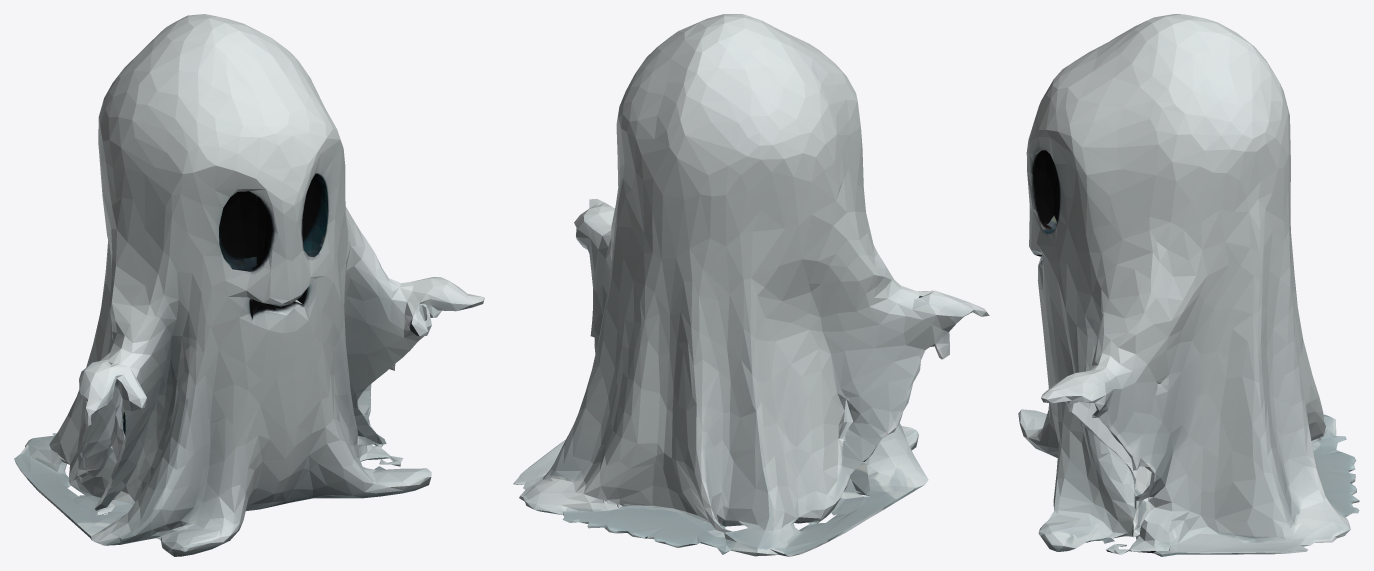
The model's file is ghost_source.glb.
The picture shows the model from 3 angles, left to right: view 1: azimuth 30°, elevation 25°; view 2: azimuth 150°, elevation 25°; view 3: azimuth 270°, elevation 25°; orthographic projection.
Visible parts, largest first — view 1: tmpyhwo2_21.ply; view 2: tmpyhwo2_21.ply; view 3: tmpyhwo2_21.ply.
Part boxes in pixels (x1=…): tmpyhwo2_21.ply: x1=14, y1=14, x2=484, y2=556; tmpyhwo2_21.ply: x1=513, y1=14, x2=989, y2=556; tmpyhwo2_21.ply: x1=1018, y1=14, x2=1359, y2=556.
Size of the model in its own units: 1.82 by 1.99 by 1.35.
Materials: 1 (1 with a texture image).
